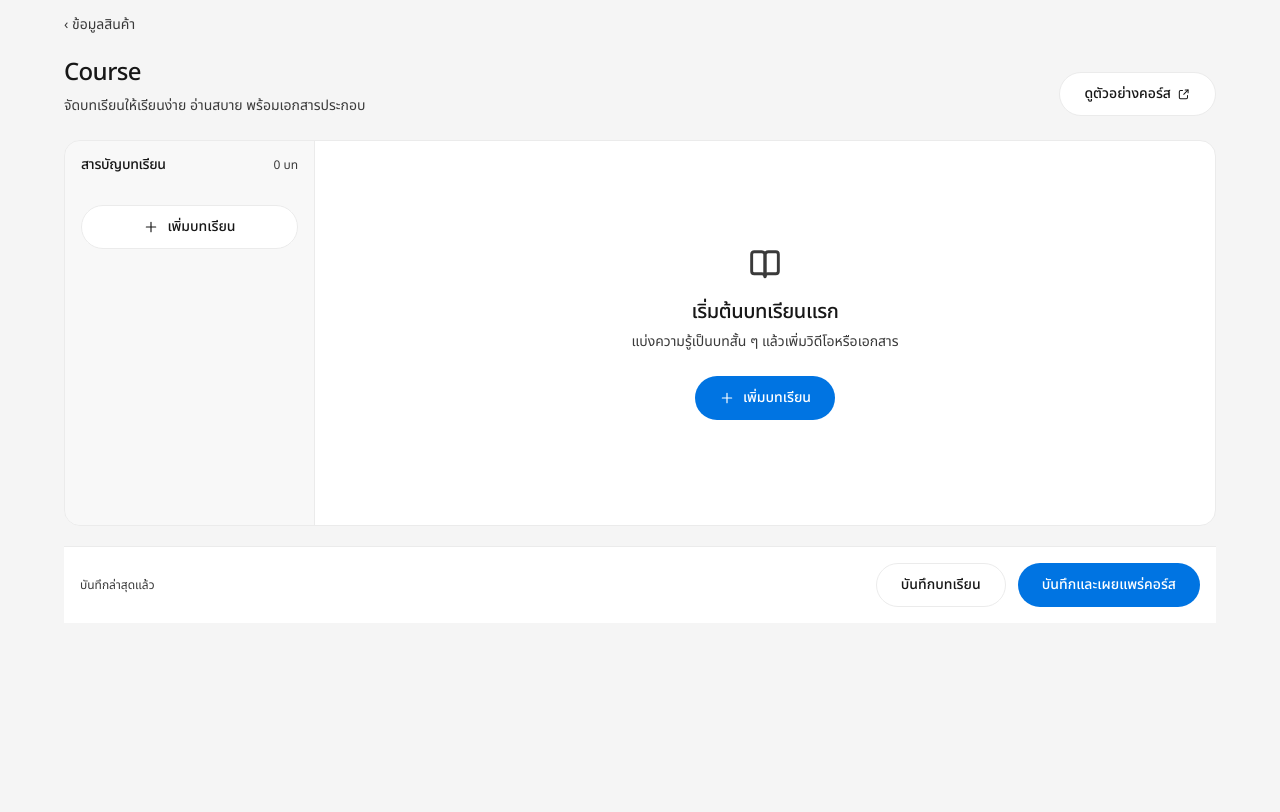
Scenario: curriculum authoring › blocks publishing an empty course
Click the button "บันทึกและเผยแพร่คอร์ส": point(1109, 585) [1018,563,1200,607]
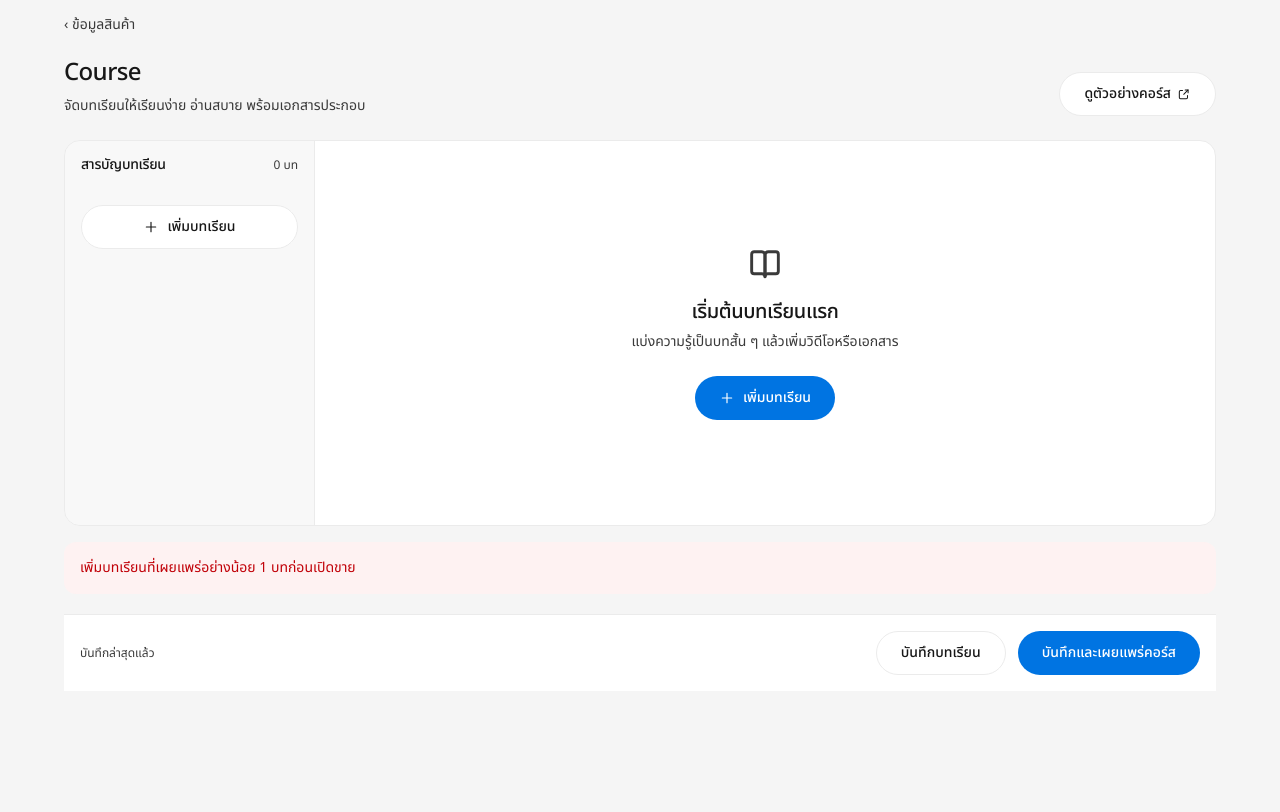
Now the message shows "อย่างน้อย 1 บท", box [80,557,356,578]
